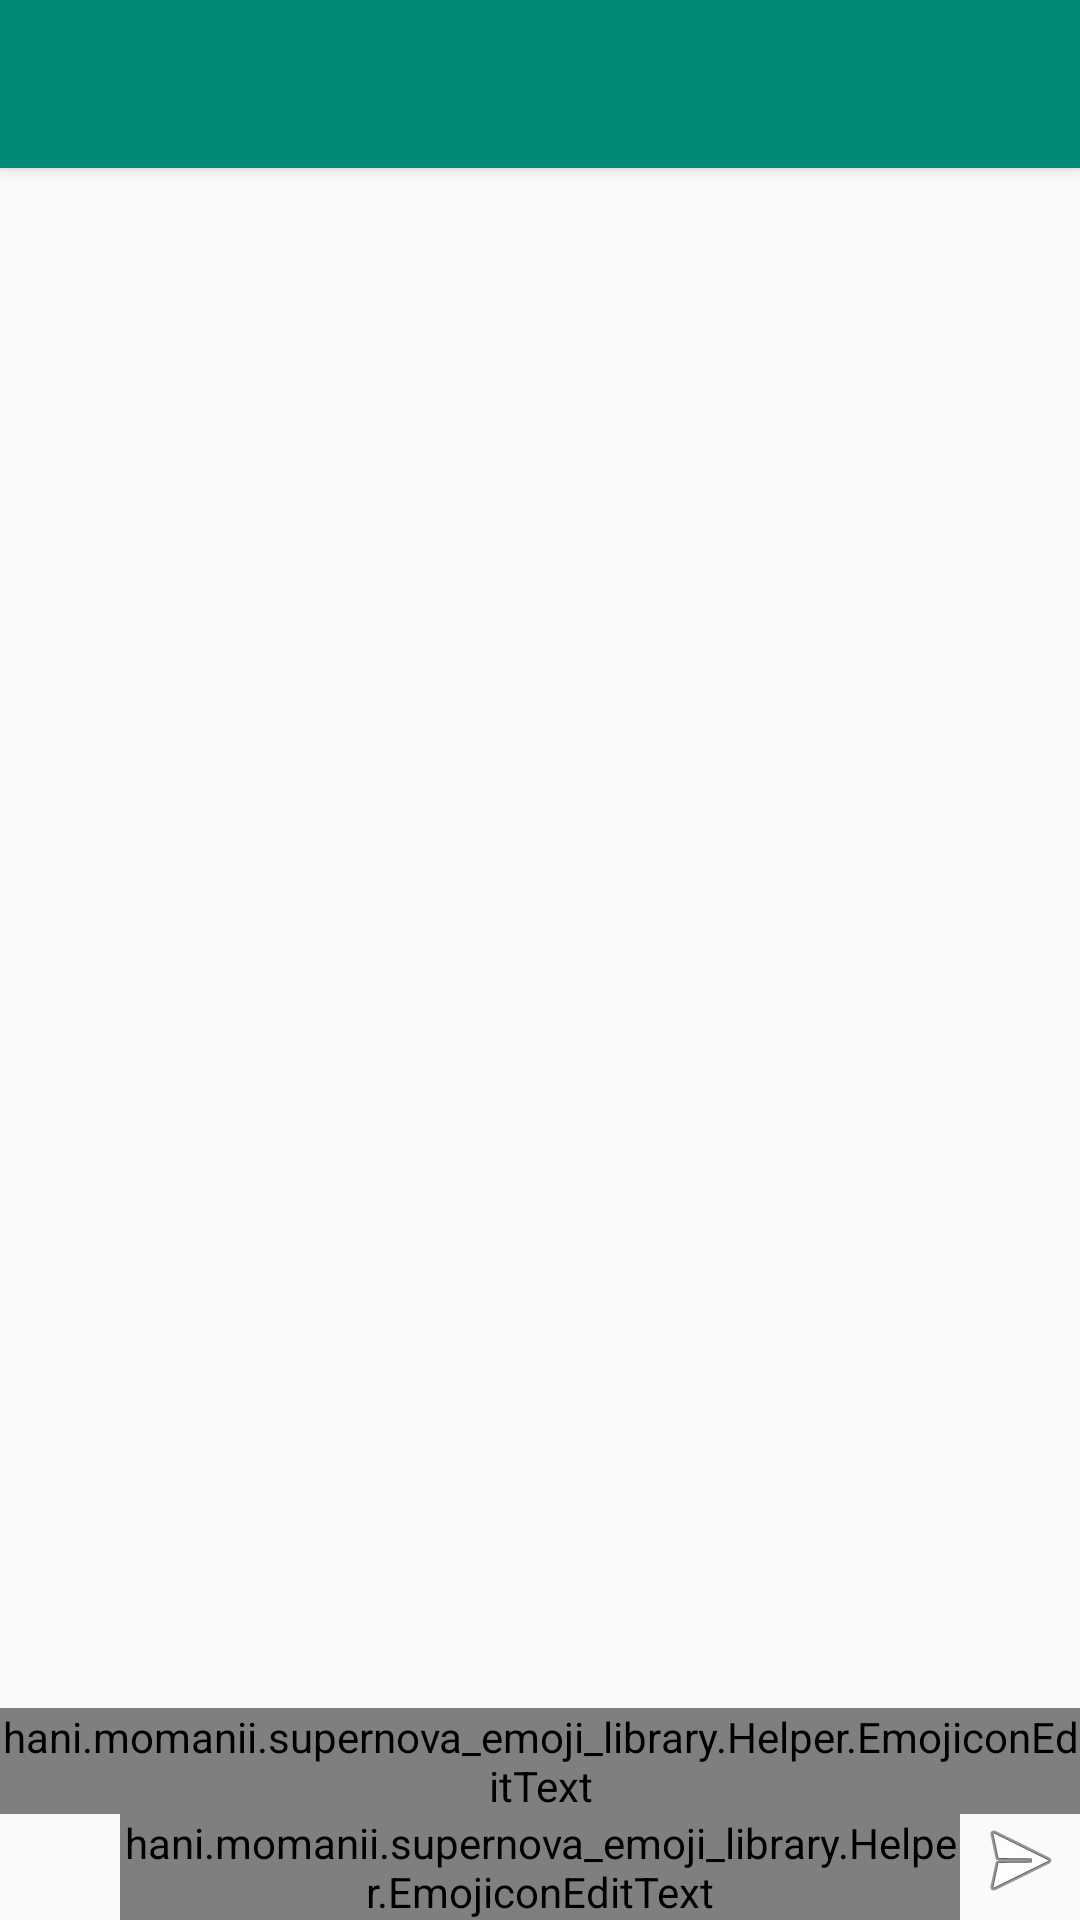

Screen size 1080px×1920px. Icon name, then its center in pixels as [x,y]:
send: [1020,1867]
